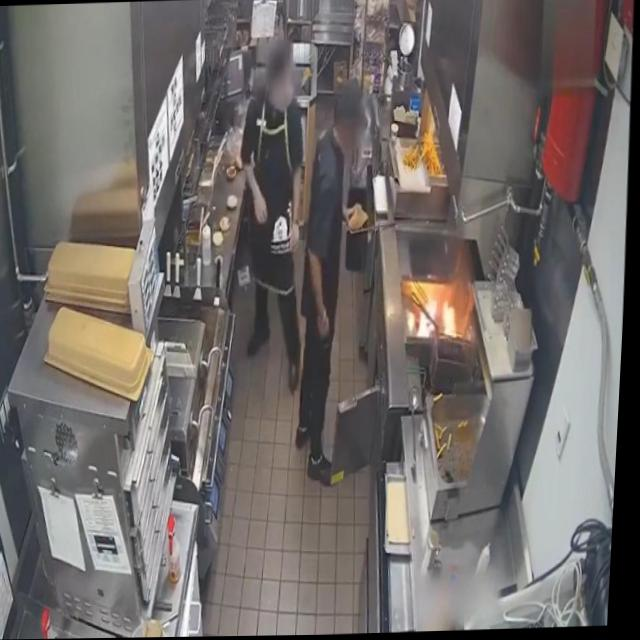fire: (415, 297, 466, 340)
